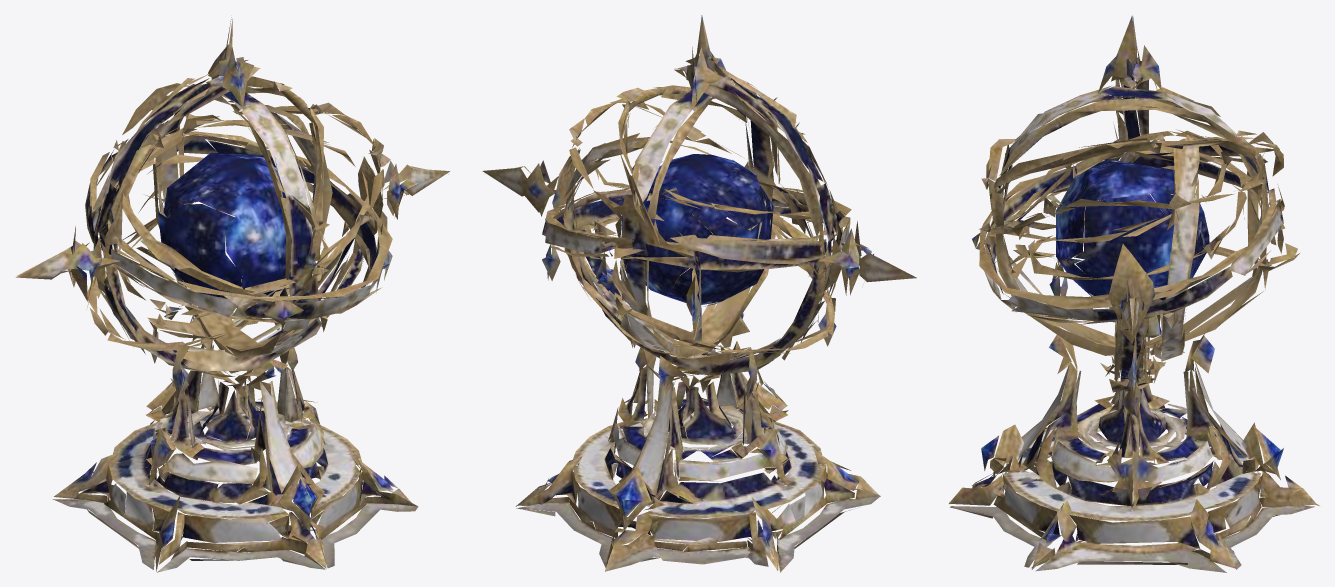
File: deco_armillary_lite.glb
3 renders of one model, left to right at view 1: azimuth 30°, elevation 25°; view 2: azimuth 150°, elevation 25°; view 3: azimuth 270°, elevation 25°, orthographic.
Visible parts, largest first — view 1: geometry_0; view 2: geometry_0; view 3: geometry_0.
Boxes of the visible parts, x1,y1,x2,y2 form: geometry_0: [16, 17, 449, 572]; geometry_0: [482, 15, 916, 572]; geometry_0: [949, 15, 1319, 572].
Size of the model in its own units: 1.78 by 1.92 by 1.32.
1 material, 1 textured.
